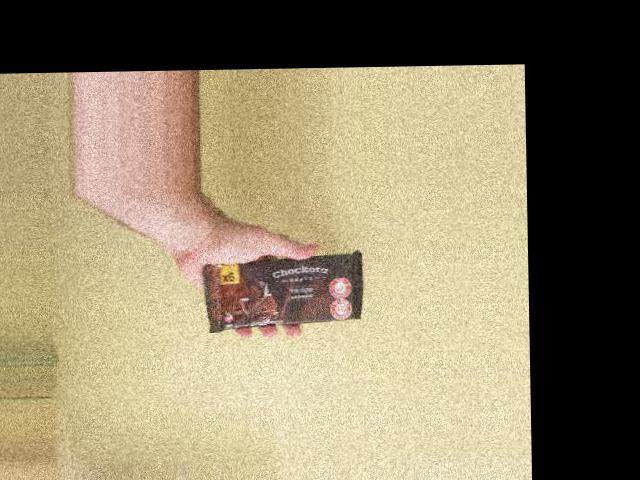chocolate: (202, 247, 362, 333)
